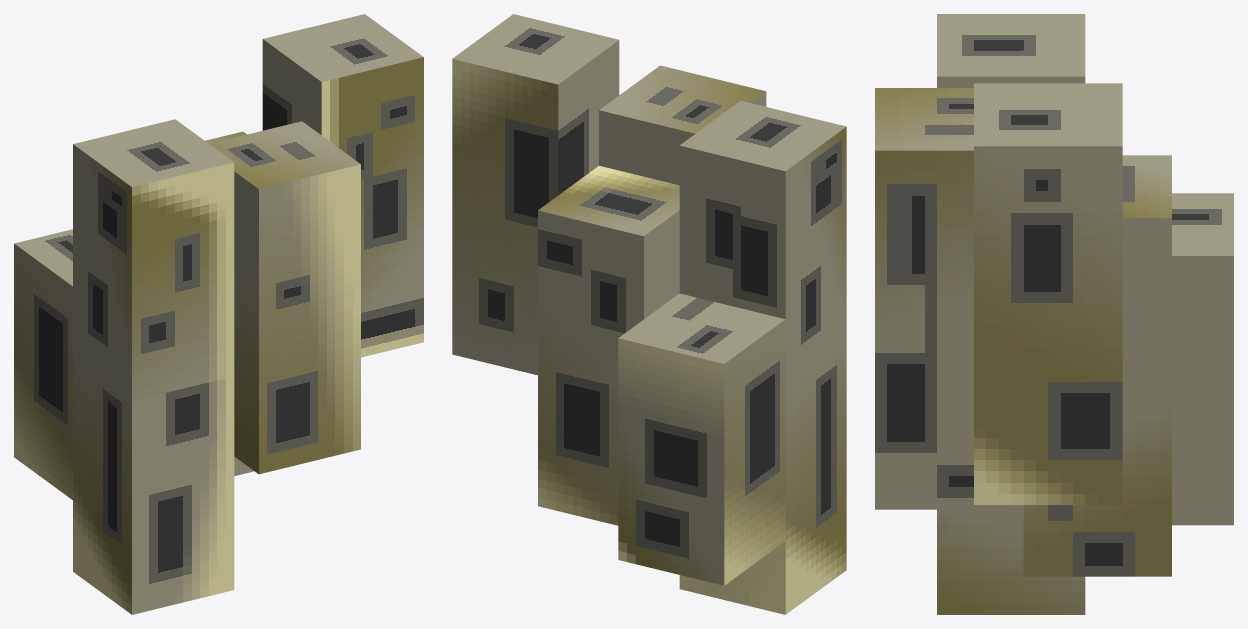
Rendered from BEES Model Hive V1-1 gltf.gltf.
3 renders of one model, left to right at view 1: azimuth 30°, elevation 25°; view 2: azimuth 150°, elevation 25°; view 3: azimuth 270°, elevation 25°, orthographic. The views are drawn at different scales.
Parts seen in each view (by area): view 1: cuboid (×2), Piece2, Piece3, Piece1; view 2: cuboid (×3), Piece1, Piece2, Piece3; view 3: cuboid (×3), Piece1, Piece3, Piece2.
Part boxes in pixels (bbox=[...]): cuboid (×2): bbox=[209, 14, 423, 474]; Piece2: bbox=[73, 119, 234, 400]; Piece3: bbox=[73, 358, 234, 614]; Piece1: bbox=[14, 229, 72, 499]; cuboid (×3): bbox=[452, 14, 766, 525]; Piece1: bbox=[618, 293, 785, 585]; Piece2: bbox=[679, 101, 846, 392]; Piece3: bbox=[679, 348, 846, 614]; cuboid (×3): bbox=[875, 83, 1171, 576]; Piece1: bbox=[1172, 193, 1233, 525]; Piece3: bbox=[937, 509, 1085, 614]; Piece2: bbox=[937, 14, 1085, 87].
Size of the model in its own units: 2.25 by 3.31 by 1.81.
Materials: 1 (1 with a texture image).
